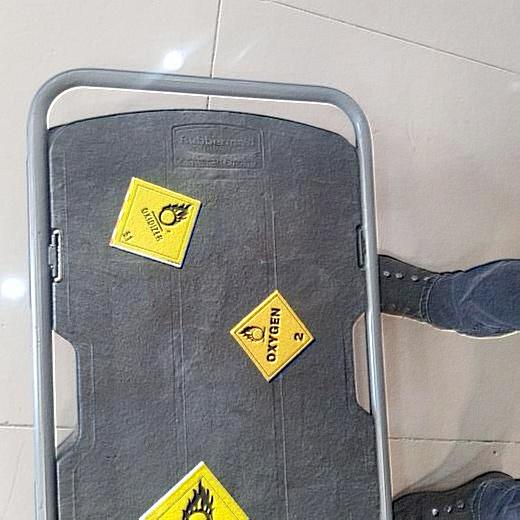oxidizer: (103, 177, 202, 270), (225, 290, 317, 382)
